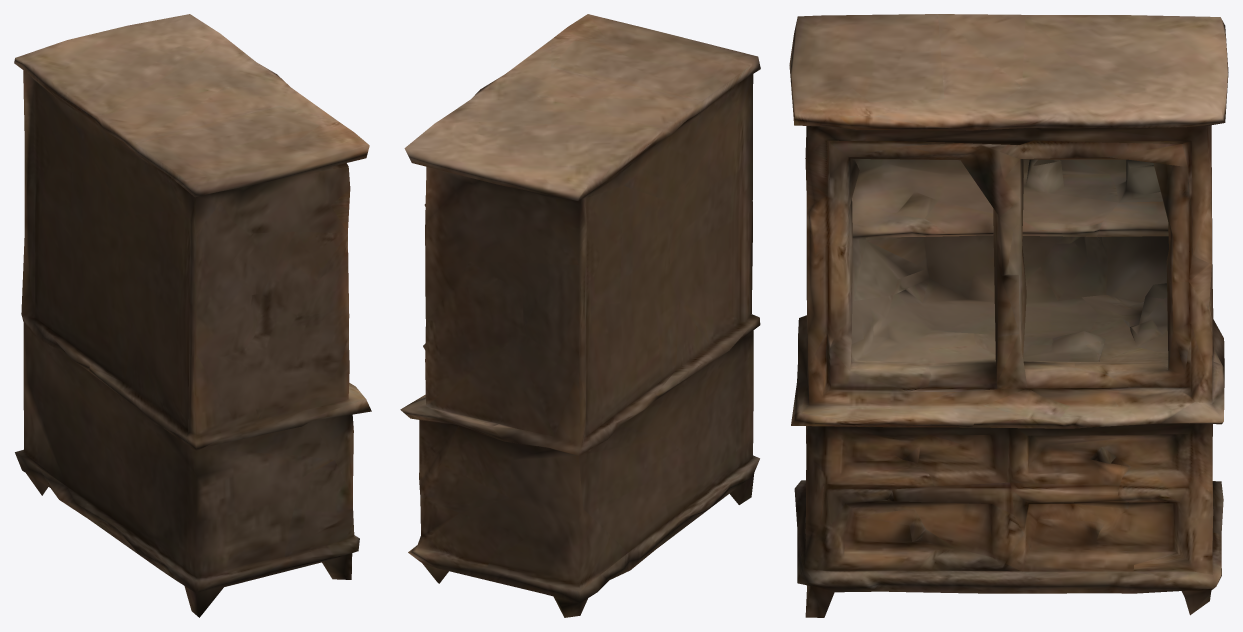
File: e_buffet.glb
The picture shows the model from 3 angles, left to right: view 1: azimuth 30°, elevation 25°; view 2: azimuth 150°, elevation 25°; view 3: azimuth 270°, elevation 25°; orthographic projection. The views are drawn at different scales.
Parts seen in each view (by area): view 1: tripo_node_ddcf02f9-38a9-44b9-9abe-635a3c7ca845; view 2: tripo_node_ddcf02f9-38a9-44b9-9abe-635a3c7ca845; view 3: tripo_node_ddcf02f9-38a9-44b9-9abe-635a3c7ca845.
Part boxes in pixels (x1,y1,x2,y2): tripo_node_ddcf02f9-38a9-44b9-9abe-635a3c7ca845: [14, 14, 371, 617]; tripo_node_ddcf02f9-38a9-44b9-9abe-635a3c7ca845: [400, 14, 760, 617]; tripo_node_ddcf02f9-38a9-44b9-9abe-635a3c7ca845: [789, 14, 1228, 617].
Size of the model in its own units: 0.4534 by 1 by 0.7728.
1 material, 1 textured.
